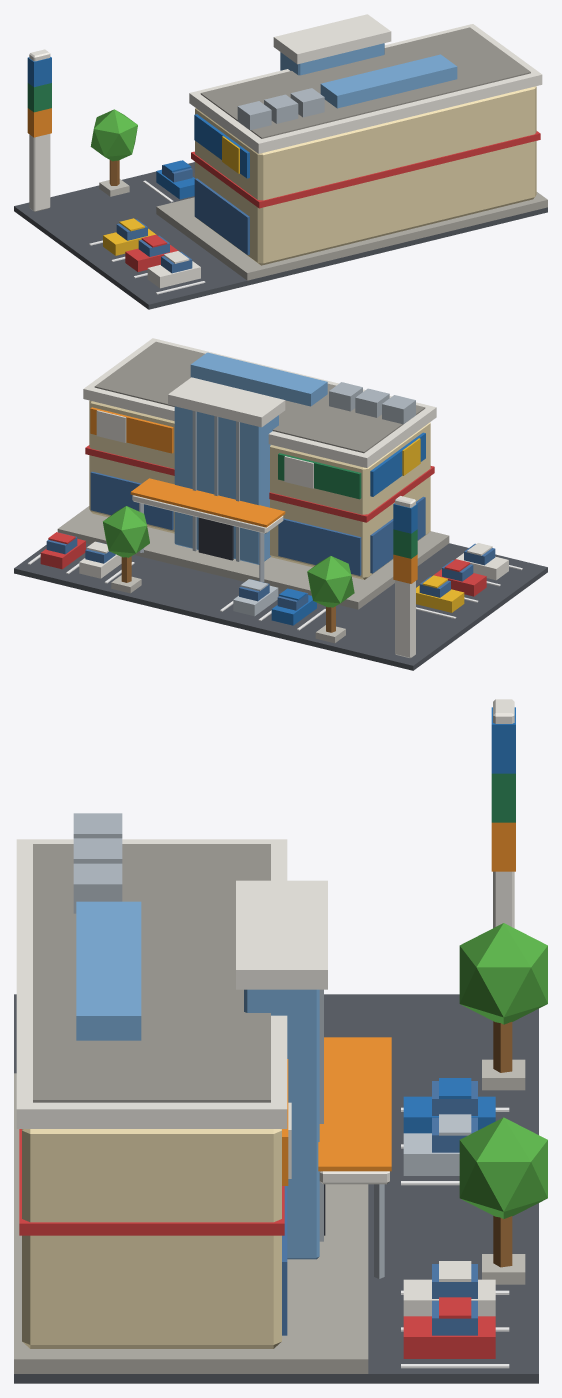
The model's file is shopping.glb.
The picture shows the model from 3 angles, top to bottom: view 1: azimuth 30°, elevation 25°; view 2: azimuth 150°, elevation 25°; view 3: azimuth 270°, elevation 25°; orthographic projection. The views are drawn at different scales.
Parts seen in each view (by area): view 1: corpo; view 2: corpo; view 3: corpo.
Part boxes in pixels (left/top/right/bottom): corpo: left=14, top=14, right=547, bottom=309; corpo: left=14, top=338, right=547, bottom=670; corpo: left=14, top=699, right=547, bottom=1383.
Size of the model in its own units: 1.66 by 0.65 by 0.9867.
